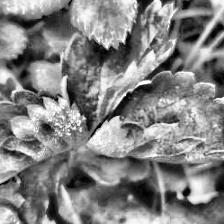Powdery Mildew Leaf: (60, 0, 179, 134), (84, 70, 224, 164), (0, 88, 90, 198)
